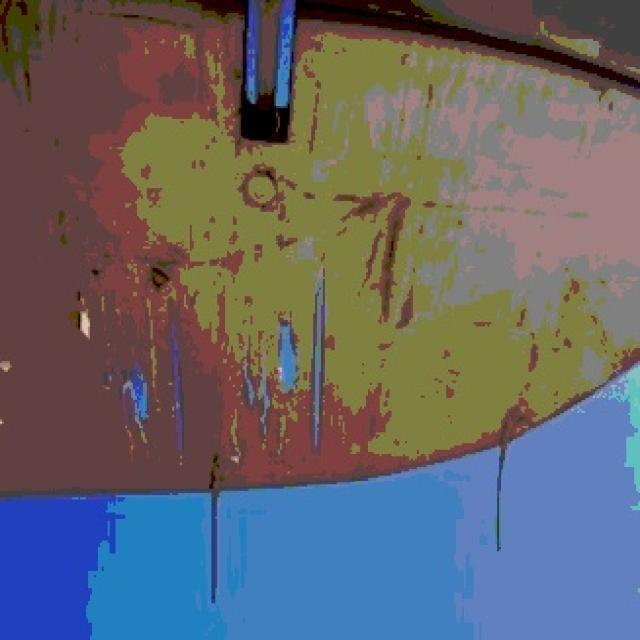crack: (90, 254, 336, 468)
